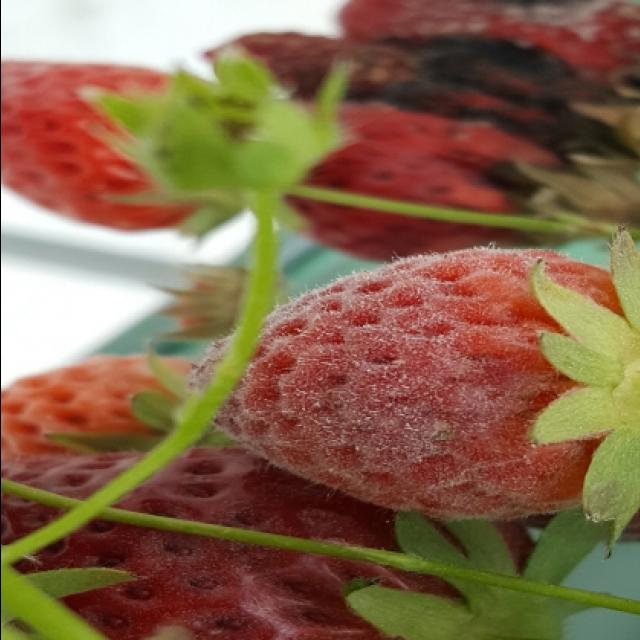Powdery Mildew Fruit: (182, 246, 640, 526), (2, 445, 542, 640)
